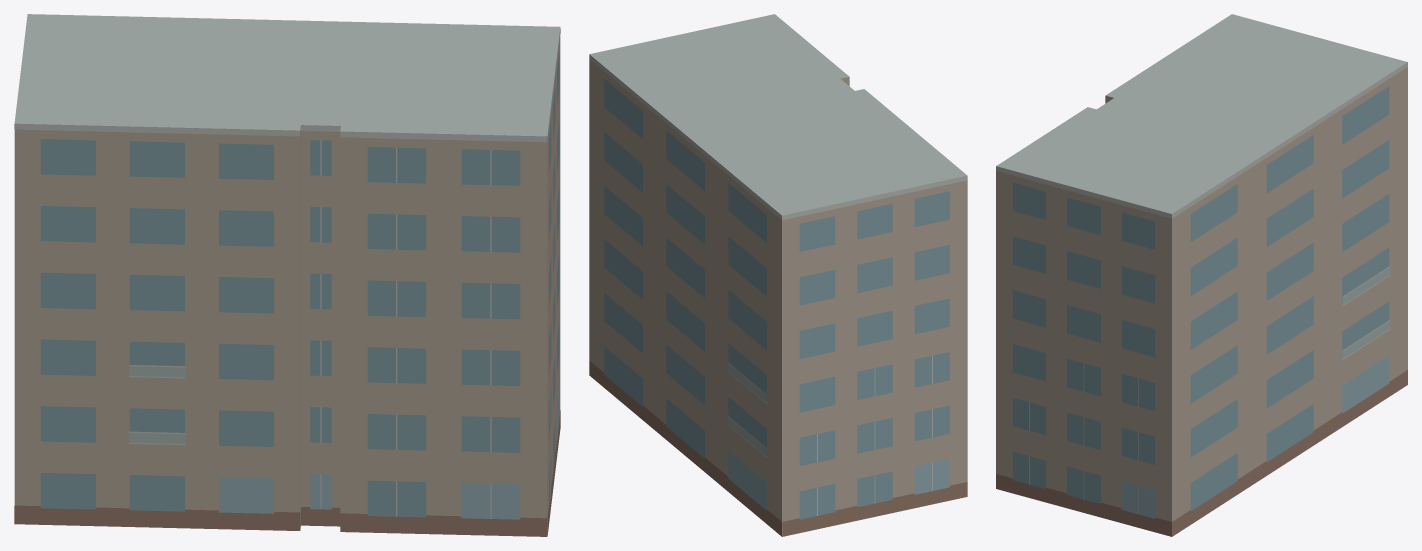
File: survey-upis-32981033.glb
3 renders of one model, left to right at view 1: azimuth 30°, elevation 25°; view 2: azimuth 150°, elevation 25°; view 3: azimuth 270°, elevation 25°, orthographic. The views are drawn at different scales.
Parts seen in each view (by area): view 1: survey-upis-32981033.tmp; view 2: survey-upis-32981033.tmp; view 3: survey-upis-32981033.tmp.
Part boxes in pixels (x1,y1,x2,y2): survey-upis-32981033.tmp: [14, 14, 560, 536]; survey-upis-32981033.tmp: [589, 14, 967, 536]; survey-upis-32981033.tmp: [996, 14, 1407, 536].
Bounding box in the file's own units: 22.08 × 16.6 × 19.2.
